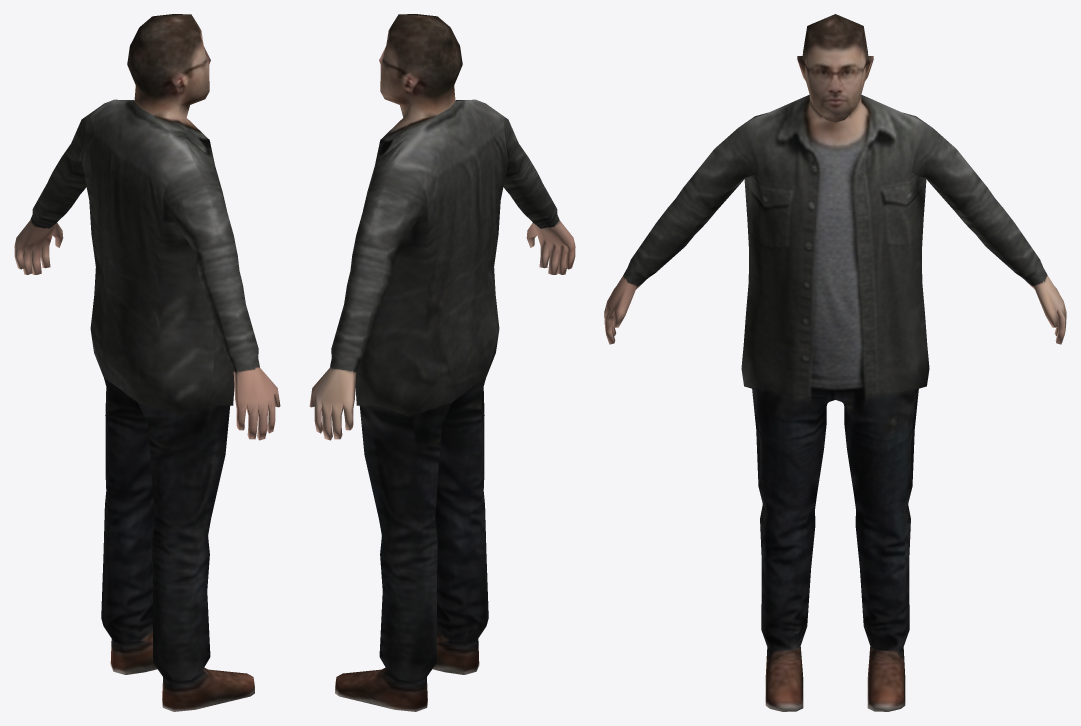
The model's file is Character_Male_37.fbx.
The picture shows the model from 3 angles, left to right: view 1: azimuth 30°, elevation 25°; view 2: azimuth 150°, elevation 25°; view 3: azimuth 270°, elevation 25°; orthographic projection.
Visible parts, largest first — view 1: Character_Male_37; view 2: Character_Male_37; view 3: Character_Male_37.
Part boxes in pixels (x1,y1,x2,y2): Character_Male_37: (14, 14, 280, 711); Character_Male_37: (309, 14, 575, 711); Character_Male_37: (604, 14, 1066, 711).
Size of the model in its own units: 0.3268 by 1.81 by 1.14.
